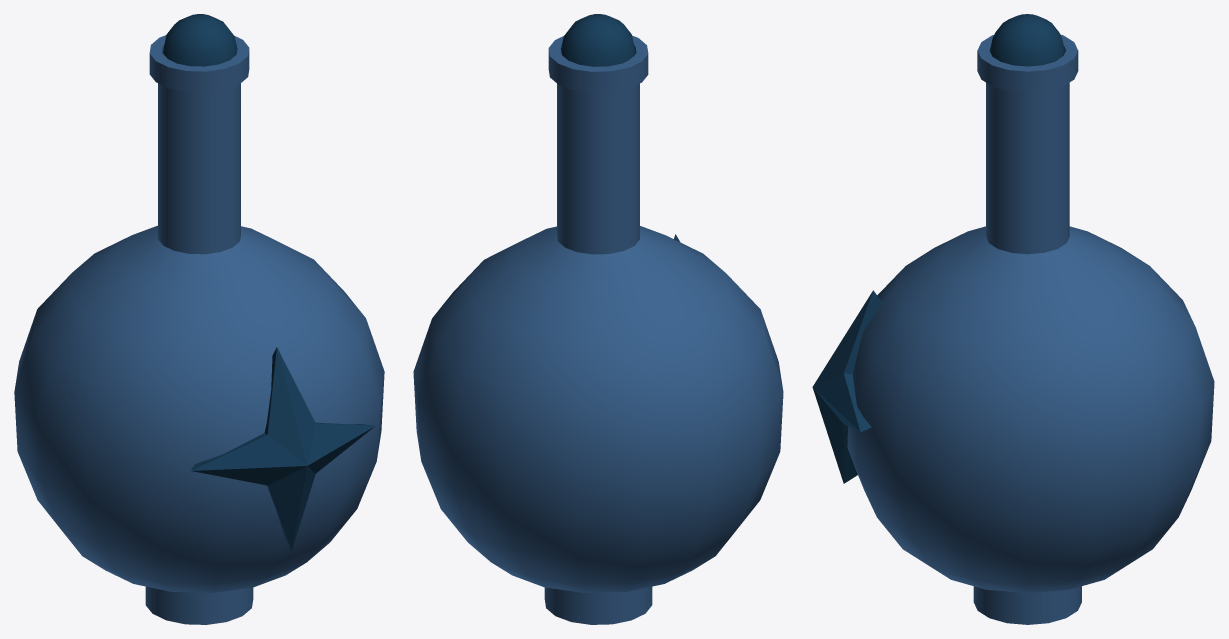
The model's file is 2water_9.fbx.
3 renders of one model, left to right at view 1: azimuth 30°, elevation 25°; view 2: azimuth 150°, elevation 25°; view 3: azimuth 270°, elevation 25°, orthographic.
Parts seen in each view (by area): view 1: 9; view 2: 9; view 3: 9.
Part boxes in pixels (bbox=[...]): 9: bbox=[14, 14, 384, 624]; 9: bbox=[413, 14, 783, 624]; 9: bbox=[812, 14, 1214, 624].
Size of the model in its own units: 19.91 by 21.43 by 34.4.
Materials: 1 (1 with a texture image).
